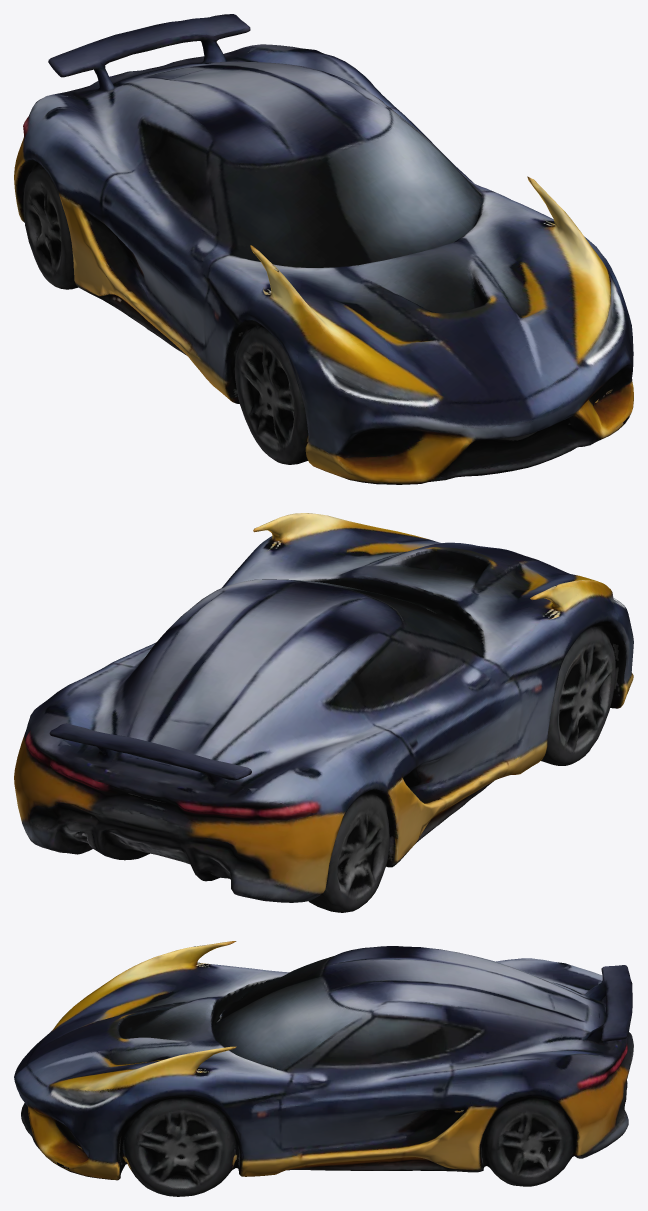
3 views of the same model, one above another, from view 1: azimuth 30°, elevation 25°; view 2: azimuth 150°, elevation 25°; view 3: azimuth 270°, elevation 25° (orthographic). The views are drawn at different scales.
Visible parts, largest first — view 1: Mesh_0; view 2: Mesh_0; view 3: Mesh_0.
Part boxes in pixels (x1,y1,x2,y2): Mesh_0: (14, 14, 633, 484); Mesh_0: (14, 513, 633, 912); Mesh_0: (14, 941, 633, 1196).
Bounding box in the file's own units: 2.16 × 1.36 × 4.51.
1 material, 1 textured.
